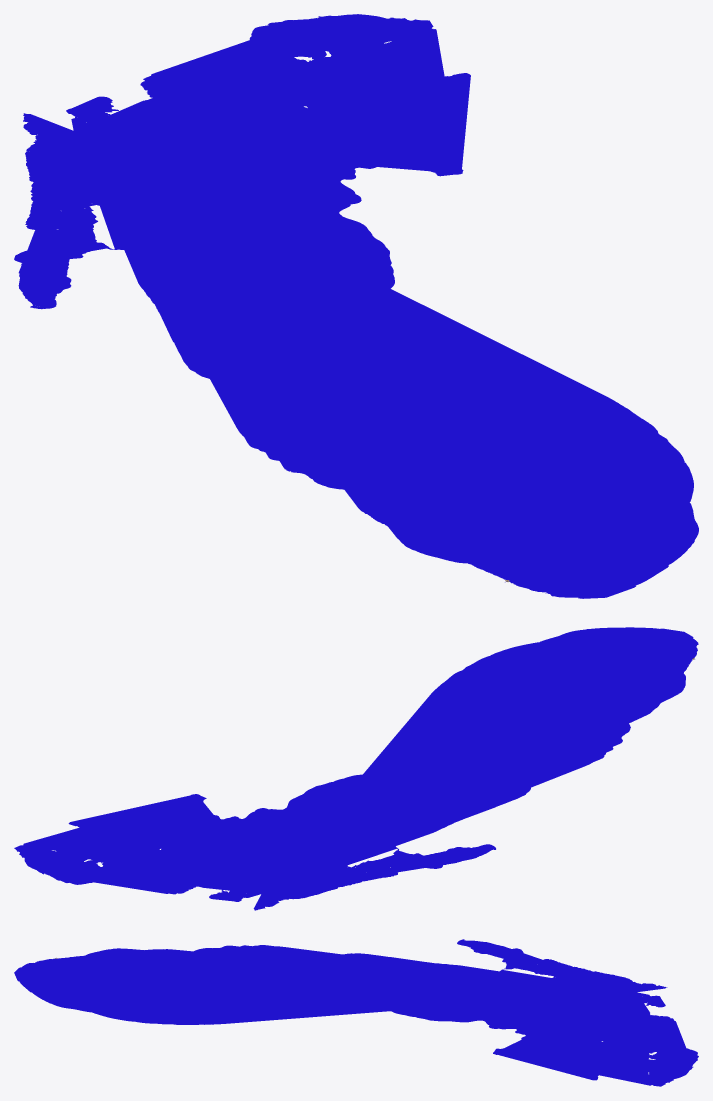
Rendered from city.fbx.
The picture shows the model from 3 angles, top to bottom: view 1: azimuth 30°, elevation 25°; view 2: azimuth 150°, elevation 25°; view 3: azimuth 270°, elevation 25°; orthographic projection. The views are drawn at different scales.
Visible parts, largest first — view 1: map.osm_water; view 2: map.osm_water; view 3: map.osm_water.
Boxes of the visible parts, x1,y1,x2,y2 form: map.osm_water: (14,14,698,598); map.osm_water: (14,627,698,910); map.osm_water: (14,939,698,1086).
Size of the model in its own units: 2.56e+07 by 42305 by 5.03e+07.
